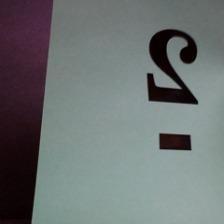green2: (138, 26, 209, 155)
